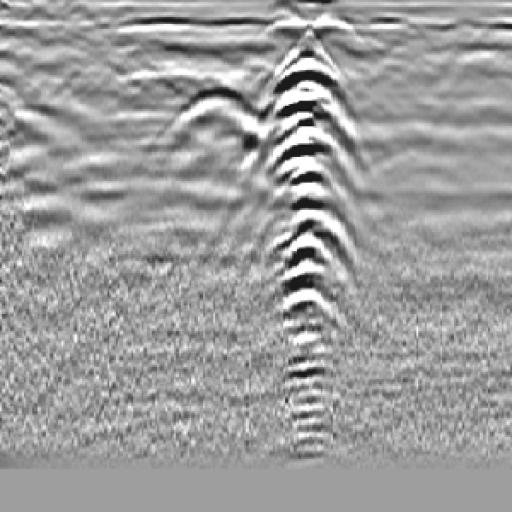metalic: (266, 17, 351, 429)
nonmetalic: (144, 72, 285, 197)
